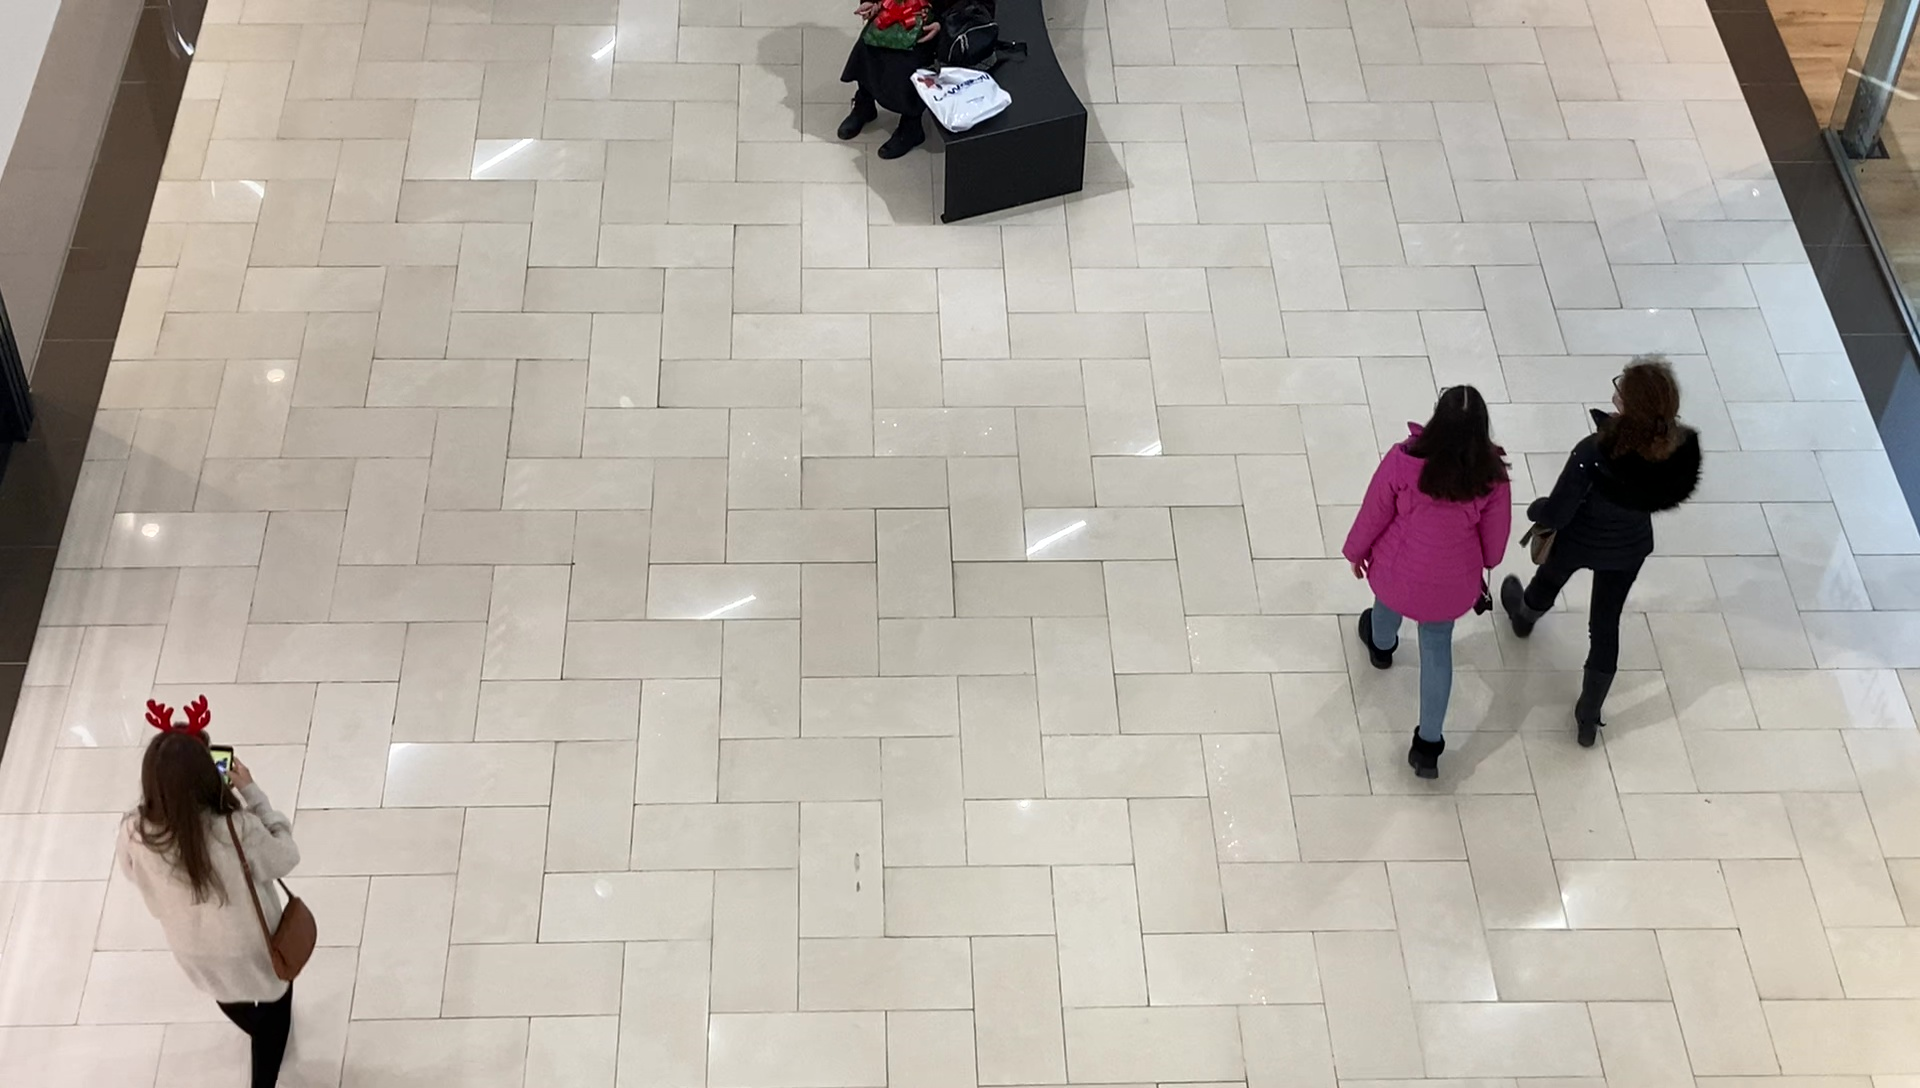person: (1511, 355, 1701, 751), (111, 726, 318, 1088), (1340, 385, 1513, 784)
